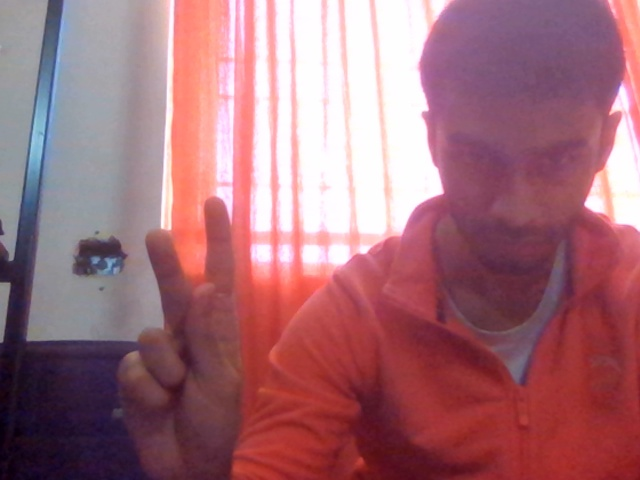K: (86, 180, 316, 480)
